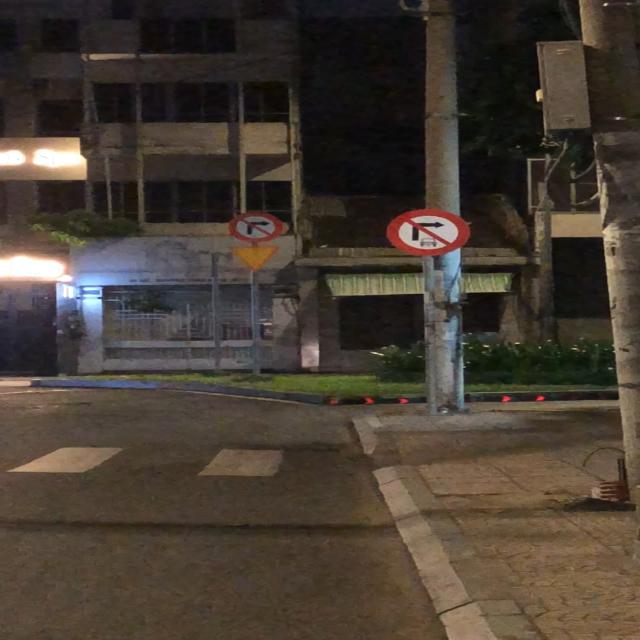Bien bao cam re phai: (227, 212, 284, 244)
Bien bao cam xe o to re phai: (380, 209, 472, 259)
Bien bao giao nhau voi duong uu tien: (226, 245, 282, 272)
